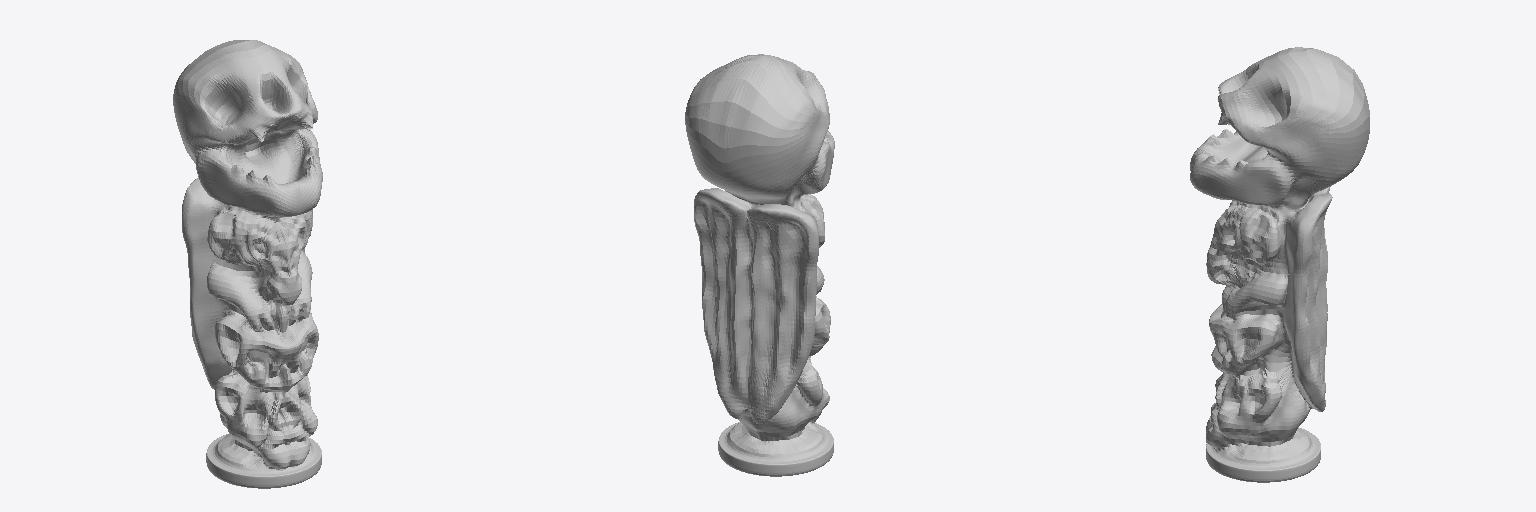
Rendered from Totem2.OBJ.
3 renders of one model, left to right at view 1: azimuth 30°, elevation 25°; view 2: azimuth 150°, elevation 25°; view 3: azimuth 270°, elevation 25°, orthographic.
Visible parts, largest first — view 1: Group2; view 2: Group2; view 3: Group2.
Boxes of the visible parts, box(x1,y1,x2,y2) form: Group2: box(173, 40, 322, 488); Group2: box(685, 54, 834, 476); Group2: box(1190, 47, 1369, 482).
Size of the model in its own units: 3.4 by 10.7 by 4.27.